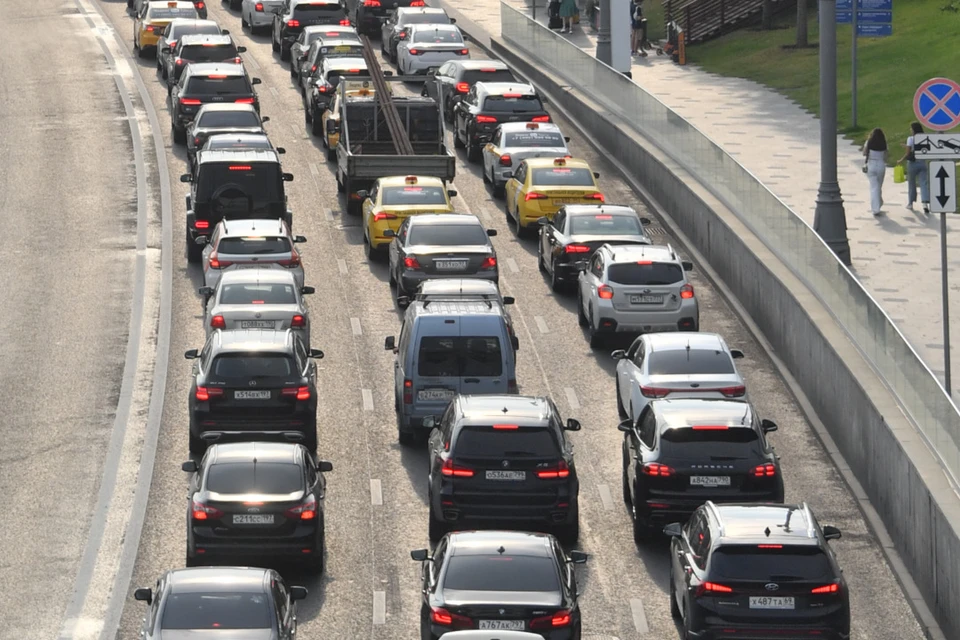Car: (663, 502, 851, 640), (617, 397, 784, 542), (422, 393, 581, 545), (182, 441, 333, 576), (385, 293, 519, 443), (411, 530, 588, 640), (326, 76, 456, 214), (185, 328, 324, 455), (573, 243, 699, 347), (134, 565, 308, 640), (181, 147, 294, 262), (611, 331, 748, 420), (537, 203, 652, 292), (383, 213, 499, 296), (198, 267, 315, 347), (356, 175, 458, 260), (503, 158, 605, 236), (451, 81, 553, 159), (166, 62, 262, 144), (195, 218, 307, 286), (479, 121, 573, 197), (427, 59, 518, 124), (300, 52, 369, 135), (271, 0, 351, 61), (153, 18, 230, 79), (379, 6, 457, 63), (297, 35, 365, 98), (129, 0, 202, 58), (393, 23, 470, 76), (162, 34, 247, 81), (184, 103, 270, 148), (288, 24, 359, 77), (397, 277, 515, 306), (345, 0, 426, 36), (188, 132, 286, 154), (316, 83, 340, 161), (242, 0, 285, 34), (133, 0, 207, 19), (438, 629, 546, 640), (222, 0, 244, 8), (127, 0, 137, 8), (383, 70, 393, 76)
